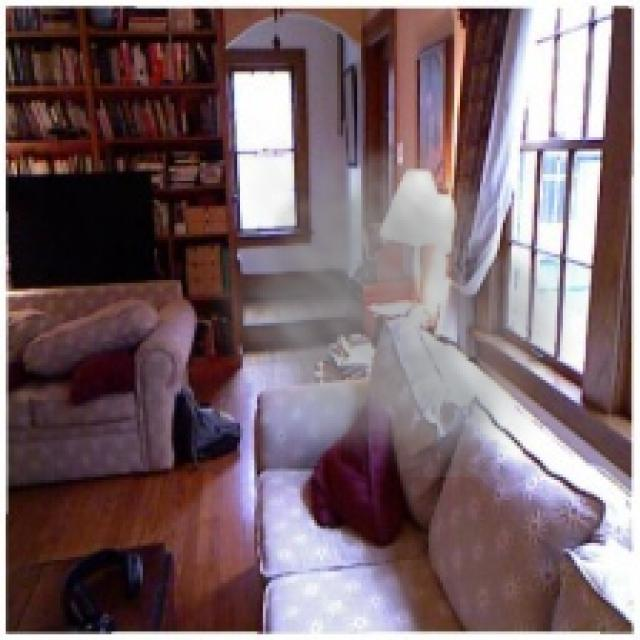smoke: (197, 109, 586, 477)
